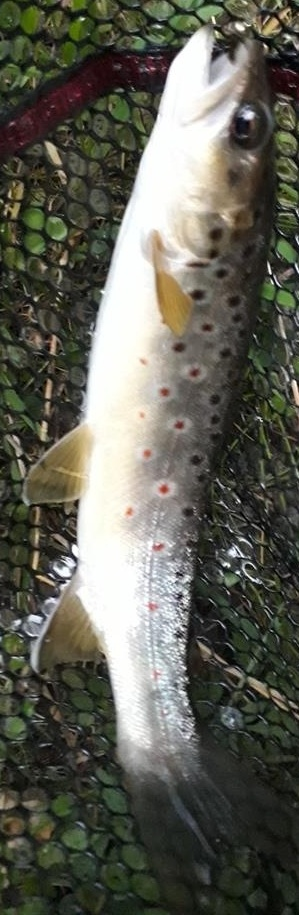Salmo trutta subsp. fario: (20, 20, 279, 913)
